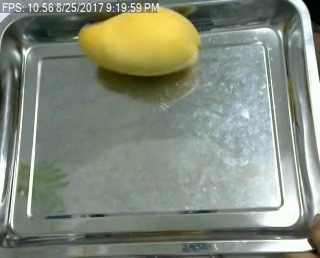Mango: (71, 3, 207, 74)
